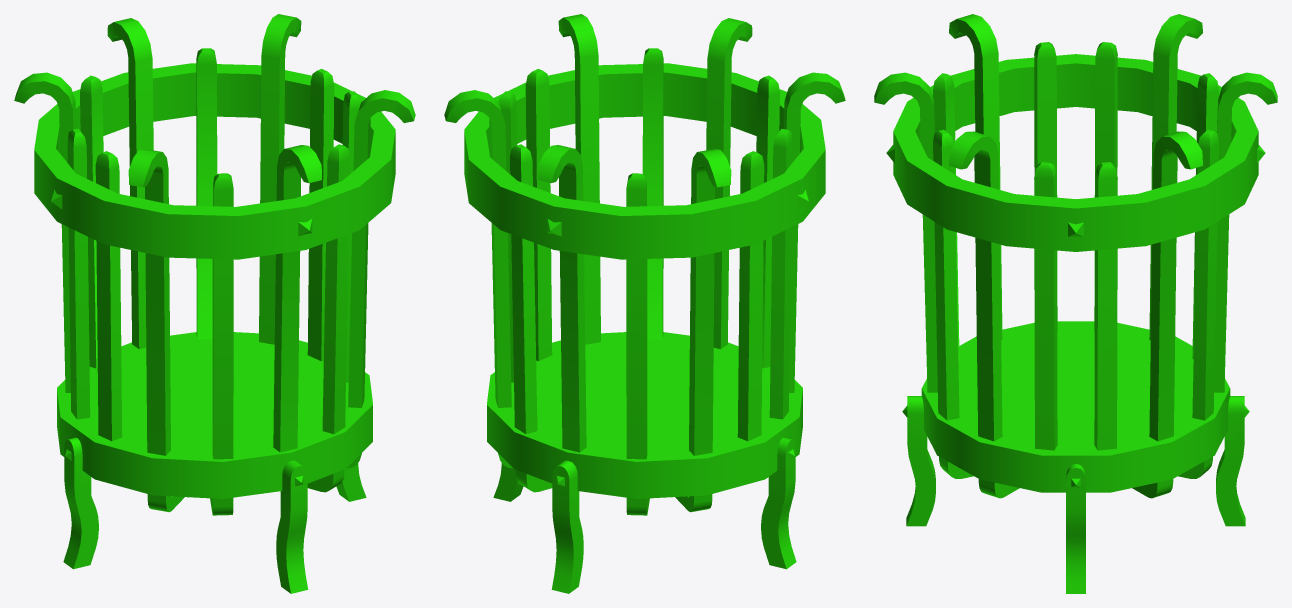
Rendered from torch_low.fbx.
3 renders of one model, left to right at view 1: azimuth 30°, elevation 25°; view 2: azimuth 150°, elevation 25°; view 3: azimuth 270°, elevation 25°, orthographic.
Visible parts, largest first — view 1: Cylinder_low, Cylinder.002_low, Cube.003_low, Cube.001_low, Cube.002_low, Cube_low, Cube.004_low, Cube.007_low, Cube.005_low; view 2: Cylinder_low, Cylinder.002_low, Cube.003_low, Cube.001_low, Cube.002_low, Cube_low, Cube.006_low, Cube.007_low, Cube.005_low; view 3: Cylinder_low, Cylinder.002_low, Cube.003_low, Cube.002_low, Cube.001_low, Cube_low, Cube.004_low, Cube.006_low, Cube.005_low.
Boxes of the visible parts, box(x1,y1,x2,y2) form: Cylinder_low: box(34, 63, 395, 259); Cylinder.002_low: box(57, 332, 372, 498); Cube.003_low: box(14, 14, 415, 512); Cube.001_low: box(80, 48, 349, 515); Cube.002_low: box(67, 69, 361, 441); Cube_low: box(107, 18, 321, 452); Cube.004_low: box(276, 460, 308, 593); Cube.007_low: box(63, 437, 98, 569); Cube.005_low: box(336, 463, 366, 501); Cylinder_low: box(464, 63, 825, 259); Cylinder.002_low: box(487, 332, 802, 498); Cube.003_low: box(444, 14, 845, 512); Cube.001_low: box(510, 48, 779, 515); Cube.002_low: box(498, 69, 792, 441); Cube_low: box(538, 18, 752, 452); Cube.006_low: box(551, 460, 583, 593); Cube.007_low: box(761, 437, 796, 569); Cube.005_low: box(493, 463, 523, 501); Cylinder_low: box(893, 54, 1258, 251); Cylinder.002_low: box(921, 321, 1230, 492); Cube.003_low: box(949, 14, 1202, 498); Cube.002_low: box(1034, 42, 1117, 450); Cube.001_low: box(933, 73, 1218, 478); Cube_low: box(874, 72, 1277, 392); Cube.004_low: box(906, 396, 935, 526); Cube.006_low: box(1216, 396, 1245, 526); Cube.005_low: box(1066, 464, 1085, 593).
Size of the model in its own units: 187 by 243 by 199.
